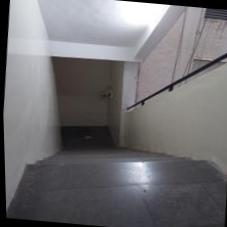Animal: (54, 135, 175, 188)
